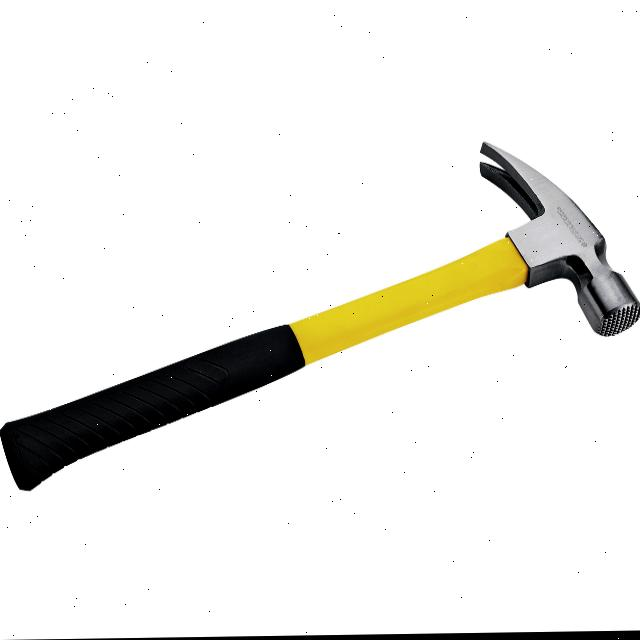hammer: (0, 133, 640, 500)
